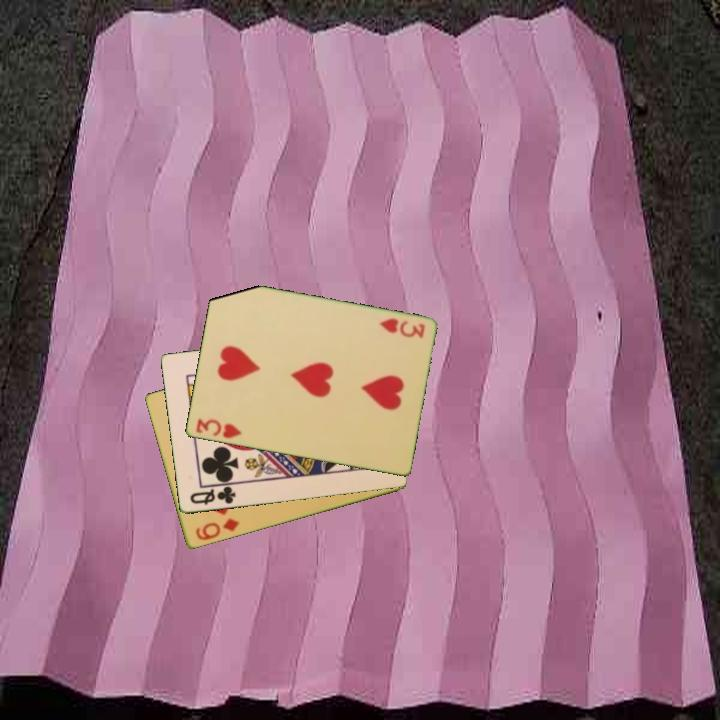3h: (192, 415, 245, 441), (375, 315, 428, 341)
6d: (192, 515, 242, 544)
Qc: (186, 483, 238, 508)
